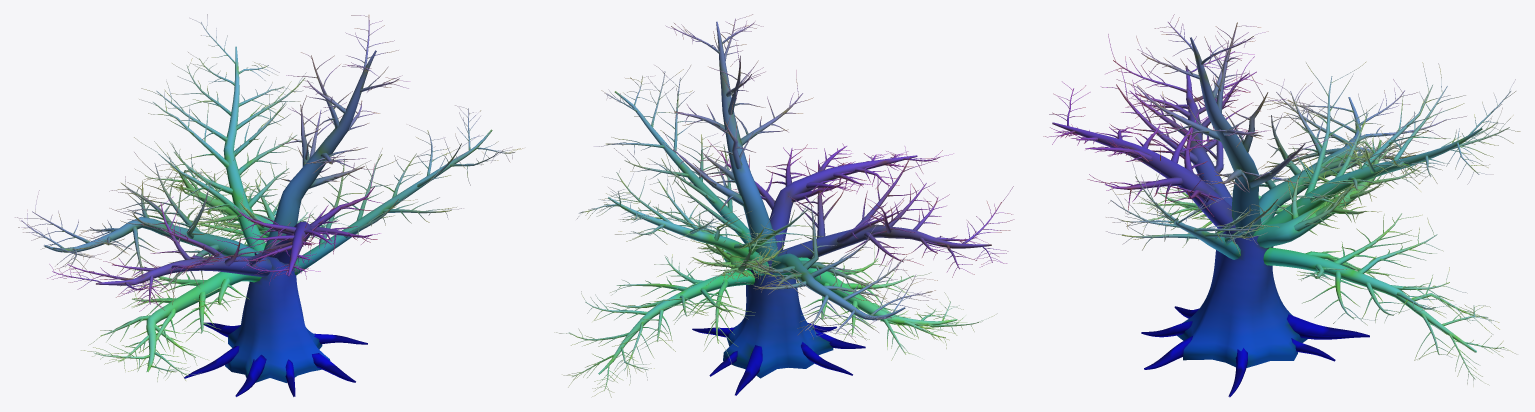
The model's file is oak-hero.glb.
3 views of the same model, side by side, from view 1: azimuth 30°, elevation 25°; view 2: azimuth 150°, elevation 25°; view 3: azimuth 270°, elevation 25° (orthographic). The views are drawn at different scales.
Parts seen in each view (by area): view 1: bark; view 2: bark; view 3: bark.
Part boxes in pixels (left/top/right/bottom): bark: left=14, top=14, right=523, bottom=396; bark: left=554, top=14, right=1014, bottom=397; bark: left=1043, top=14, right=1520, bottom=397.
Size of the model in its own units: 21.8 by 15.19 by 17.83.
